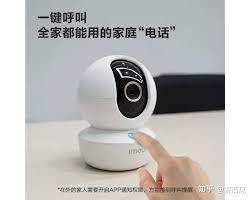maru: (74, 55, 162, 135)
